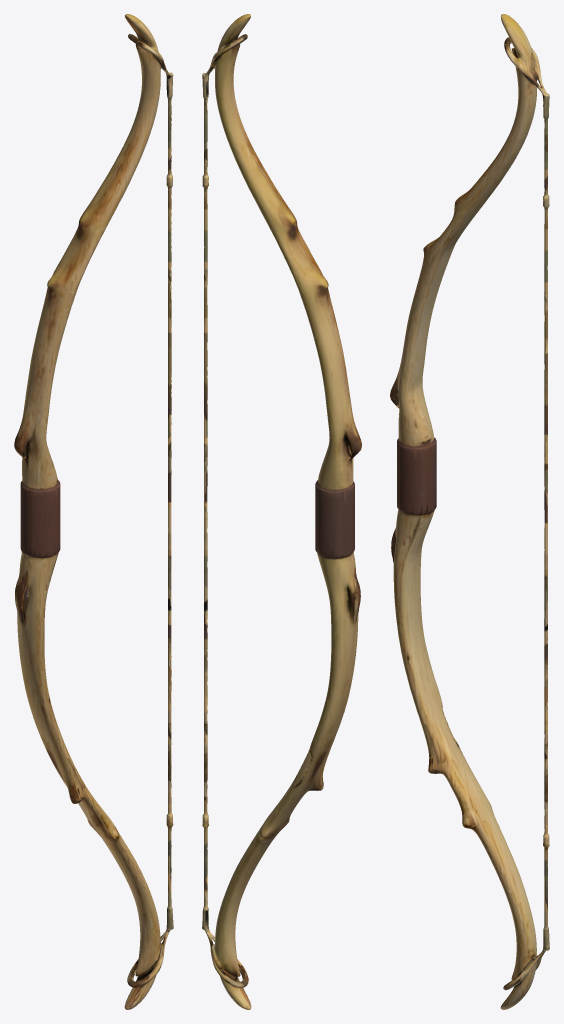
File: Meshy_AI_Crafted_Wood_Bow_0901063220_texture.fbx
3 renders of one model, left to right at view 1: azimuth 30°, elevation 25°; view 2: azimuth 150°, elevation 25°; view 3: azimuth 330°, elevation 25°, orthographic.
Visible parts, largest first — view 1: Mesh_0; view 2: Mesh_0; view 3: Mesh_0.
Part boxes in pixels (x1,y1,x2,y2): Mesh_0: [14, 14, 173, 1009]; Mesh_0: [202, 14, 361, 1009]; Mesh_0: [390, 14, 549, 1009].
Size of the model in its own units: 31.48 by 190 by 8.81.
Materials: 1 (1 with a texture image).
